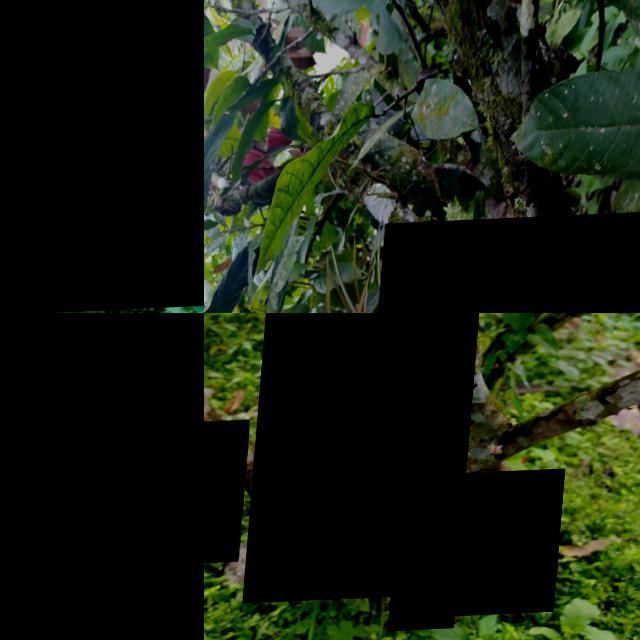Fitoftora: (0, 313, 204, 640), (0, 0, 204, 313)
Monilia: (374, 214, 640, 313), (397, 514, 470, 635)
Sana: (250, 313, 487, 605), (454, 474, 571, 621), (204, 421, 255, 566)
